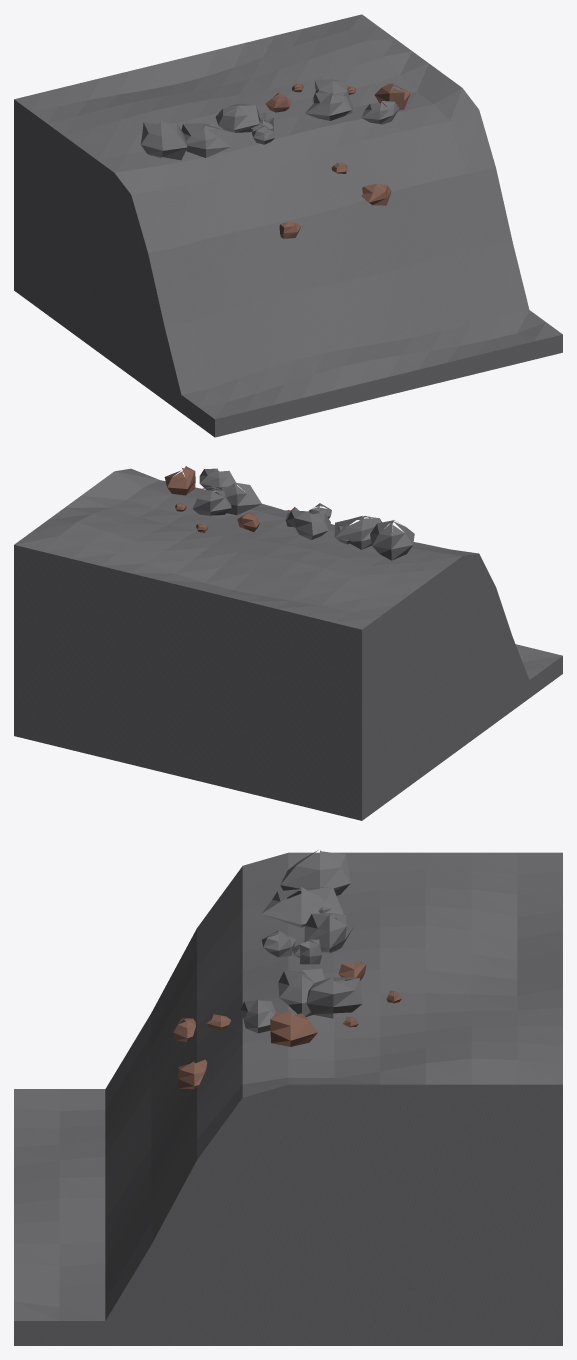
Rendered from volcano-and-lava-fields-volcano-and-lava-fields-ravine-c8ae7441__37449.glb.
3 views of the same model, one above another, from view 1: azimuth 30°, elevation 25°; view 2: azimuth 150°, elevation 25°; view 3: azimuth 270°, elevation 25° (orthographic). The views are drawn at different scales.
Visible parts, largest first — view 1: volcano-and-lava-fields-ravine-edge-module; view 2: volcano-and-lava-fields-ravine-edge-module; view 3: volcano-and-lava-fields-ravine-edge-module.
Boxes of the visible parts, bbox=[...] form: volcano-and-lava-fields-ravine-edge-module: bbox=[14, 14, 562, 437]; volcano-and-lava-fields-ravine-edge-module: bbox=[14, 466, 562, 820]; volcano-and-lava-fields-ravine-edge-module: bbox=[14, 850, 562, 1345].
Size of the model in its own units: 4 by 2.44 by 4.
2 materials, 2 textured.
